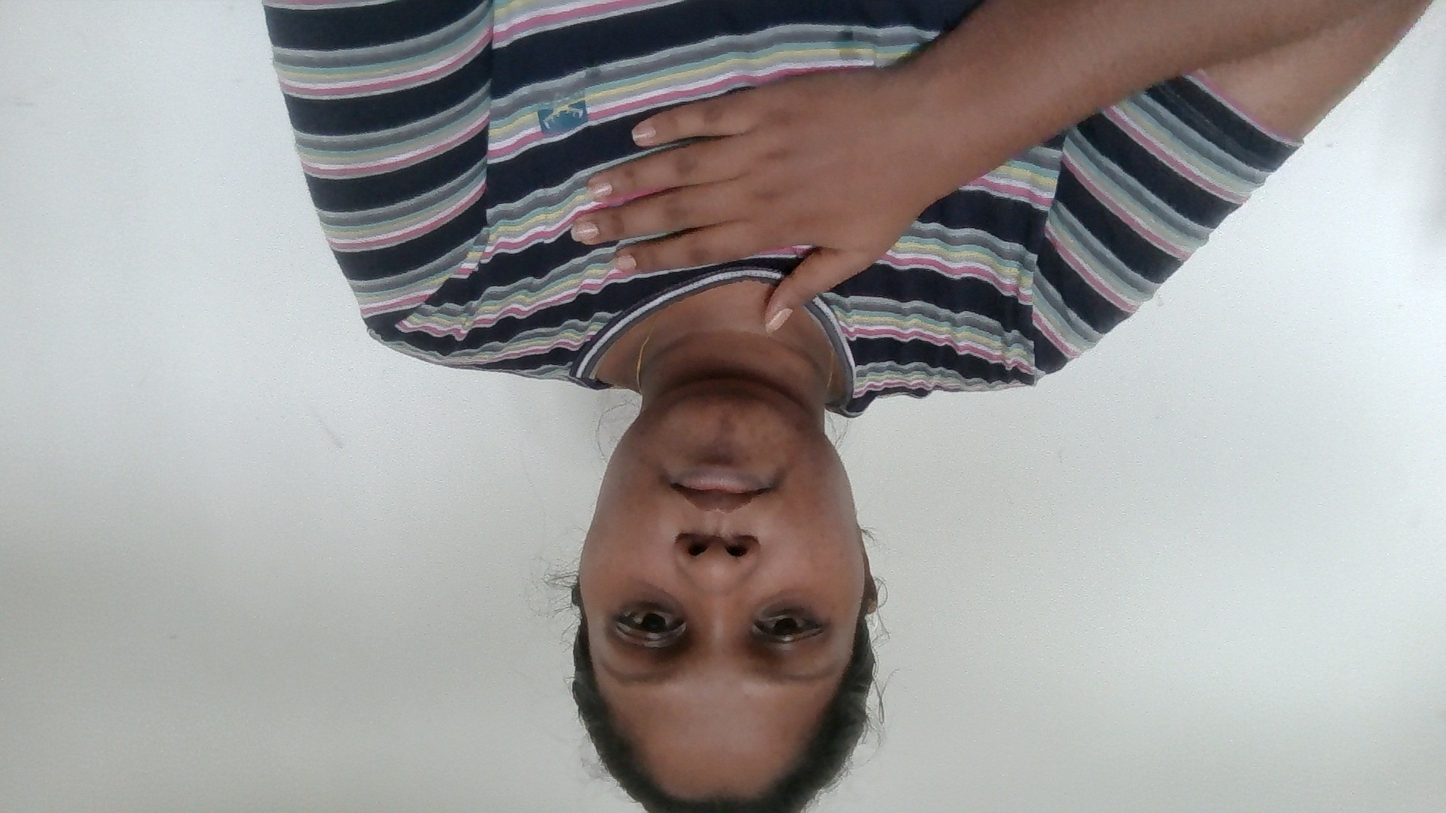Please: (565, 68, 911, 343)
